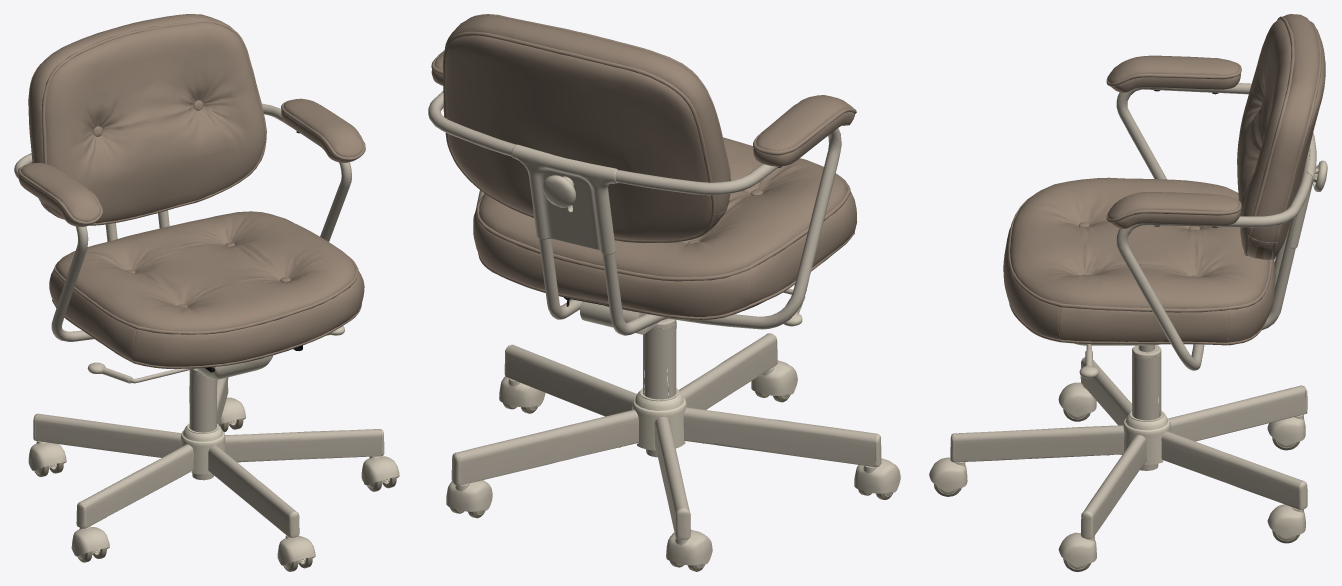
Rendered from 12-ALEFJÄLL Grann beige - Office chair (50308686).glb.
The picture shows the model from 3 angles, left to right: view 1: azimuth 30°, elevation 25°; view 2: azimuth 150°, elevation 25°; view 3: azimuth 270°, elevation 25°; orthographic projection. The views are drawn at different scales.
Parts seen in each view (by area): view 1: model; view 2: model; view 3: model.
Part boxes in pixels (x1,y1,x2,y2): model: (14,14,399,571); model: (428,14,900,571); model: (929,14,1327,571).
Size of the model in its own units: 0.6745 by 0.8455 by 0.6848.
Materials: 1 (1 with a texture image).
